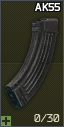AK 7.62x39 30-round magazine issued 55 or later: (0, 0, 64, 127)
